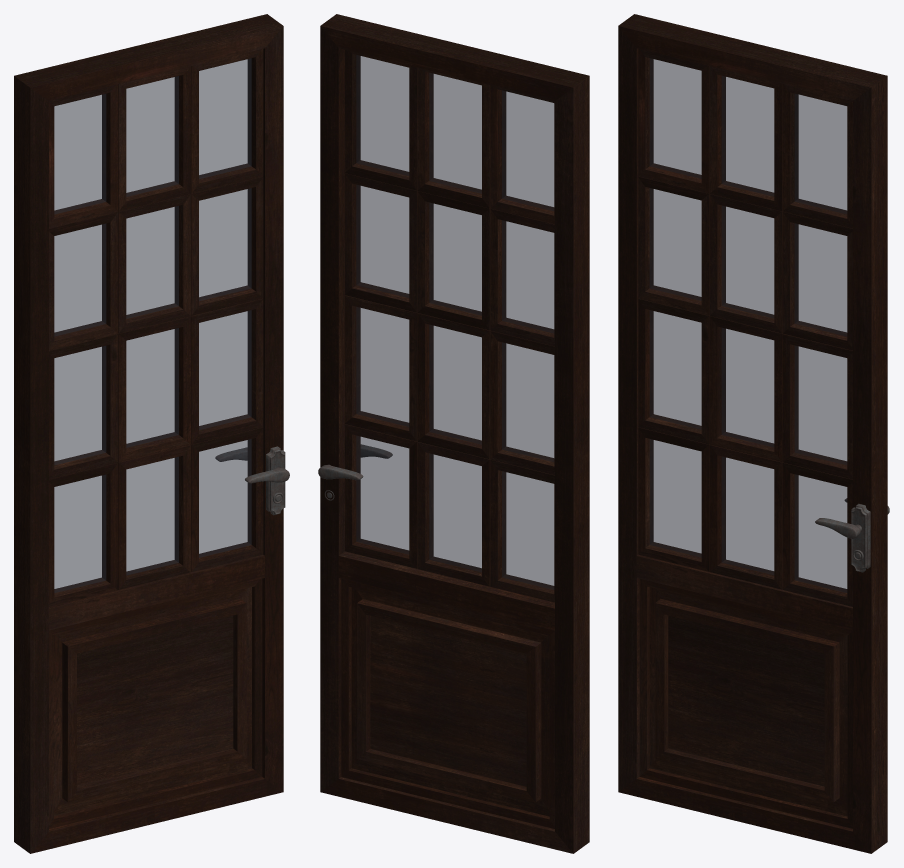
The model's file is SK2 DOOR LARGE.fbx.
3 renders of one model, left to right at view 1: azimuth 30°, elevation 25°; view 2: azimuth 150°, elevation 25°; view 3: azimuth 330°, elevation 25°, orthographic.
Visible parts, largest first — view 1: SK2 DOOR LARGE; view 2: SK2 DOOR LARGE; view 3: SK2 DOOR LARGE.
Part boxes in pixels (left/top/right/bottom): SK2 DOOR LARGE: left=14, top=14, right=289, bottom=853; SK2 DOOR LARGE: left=318, top=14, right=589, bottom=853; SK2 DOOR LARGE: left=618, top=14, right=889, bottom=853.
Bounding box in the file's own units: 79.81 × 231 × 18.73.
